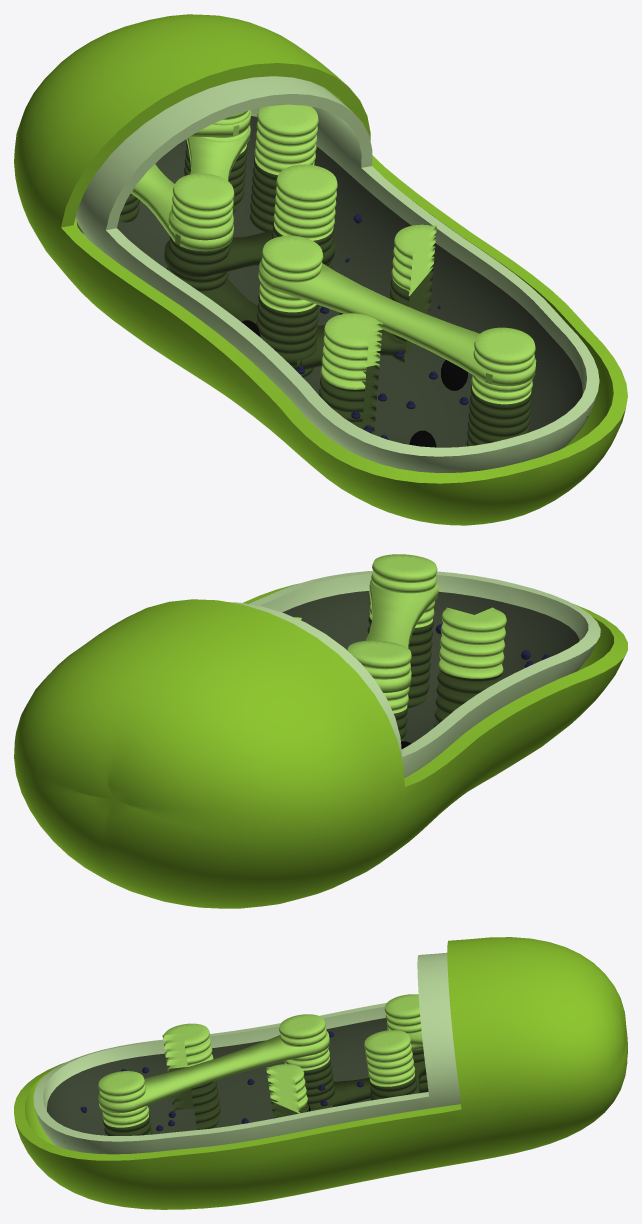
Rendered from eve3d_cloroplasto (1).glb.
3 renders of one model, top to bottom at view 1: azimuth 30°, elevation 25°; view 2: azimuth 150°, elevation 25°; view 3: azimuth 270°, elevation 25°, orthographic. The views are drawn at different scales.
Visible parts, largest first — view 1: Object_20, Object_2, Object_19, Object_18, Object_3, Object_4, Object_8, Object_9, Object_17, Object_5, Object_6, Object_7 (+6 smaller); view 2: Object_20, Object_19, Object_2, Object_18, Object_4, Object_8, Object_3, Object_5, Object_9, Object_12, Object_21; view 3: Object_20, Object_2, Object_19, Object_18, Object_3, Object_4, Object_8, Object_9, Object_11, Object_17, Object_6, Object_5 (+4 smaller).
Part boxes in pixels (x1,y1,x2,y2): Object_20: [14, 14, 627, 525]; Object_2: [117, 116, 588, 447]; Object_19: [117, 107, 586, 447]; Object_18: [75, 76, 599, 472]; Object_3: [131, 110, 536, 386]; Object_4: [320, 246, 435, 433]; Object_8: [185, 142, 535, 445]; Object_9: [256, 320, 534, 436]; Object_17: [167, 173, 234, 291]; Object_5: [252, 139, 381, 412]; Object_6: [243, 121, 337, 327]; Object_7: [184, 104, 318, 318]; Object_20: [14, 583, 627, 908]; Object_19: [260, 573, 588, 742]; Object_2: [282, 591, 579, 748]; Object_18: [228, 571, 600, 777]; Object_4: [434, 607, 506, 726]; Object_8: [347, 554, 437, 707]; Object_3: [294, 579, 438, 692]; Object_5: [436, 623, 505, 704]; Object_9: [368, 572, 436, 741]; Object_12: [364, 662, 410, 710]; Object_21: [578, 617, 613, 670]; Object_20: [14, 937, 627, 1209]; Object_2: [47, 1018, 428, 1142]; Object_19: [43, 1006, 386, 1135]; Object_18: [33, 952, 460, 1154]; Object_3: [98, 1026, 427, 1116]; Object_4: [162, 1023, 306, 1129]; Object_8: [98, 1014, 325, 1096]; Object_9: [99, 1079, 333, 1135]; Object_11: [308, 1058, 416, 1103]; Object_17: [384, 994, 426, 1083]; Object_6: [304, 1030, 410, 1082]; Object_5: [164, 1037, 216, 1098].
Size of the model in its own units: 0.366 by 0.3065 by 0.742.
6 materials, 1 textured.
